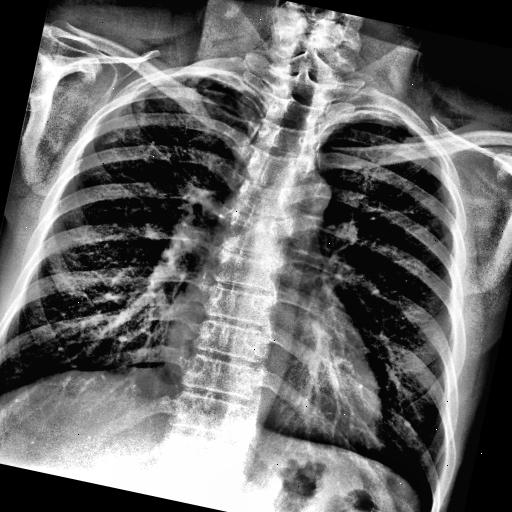11- Pleural thickening: (122, 58, 244, 125), (114, 50, 216, 130), (350, 104, 428, 134), (355, 104, 404, 126), (114, 358, 132, 372)
13- Pulmonary fibrosis: (100, 90, 148, 150), (197, 76, 214, 89)
7- Lung Opacity: (128, 94, 154, 128), (197, 76, 214, 89)
9- Other lesion: (100, 90, 148, 150)
